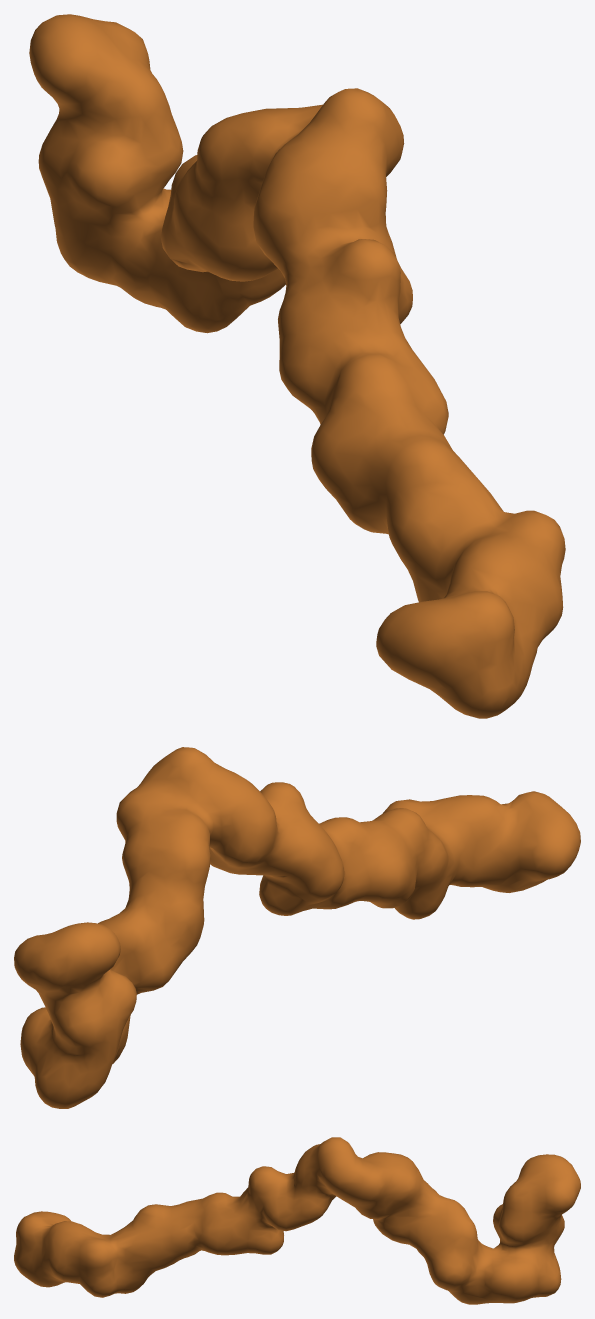
Rendered from Heparin.dae.
3 views of the same model, one above another, from view 1: azimuth 30°, elevation 25°; view 2: azimuth 150°, elevation 25°; view 3: azimuth 270°, elevation 25° (orthographic). The views are drawn at different scales.
Visible parts, largest first — view 1: CoarseMS_3irl; view 2: CoarseMS_3irl; view 3: CoarseMS_3irl.
Part boxes in pixels (left/top/right/bottom): CoarseMS_3irl: left=29, top=14, right=565, bottom=718; CoarseMS_3irl: left=14, top=747, right=580, bottom=1108; CoarseMS_3irl: left=14, top=1137, right=580, bottom=1304.
Size of the model in its own units: 36.12 by 40.91 by 115.
